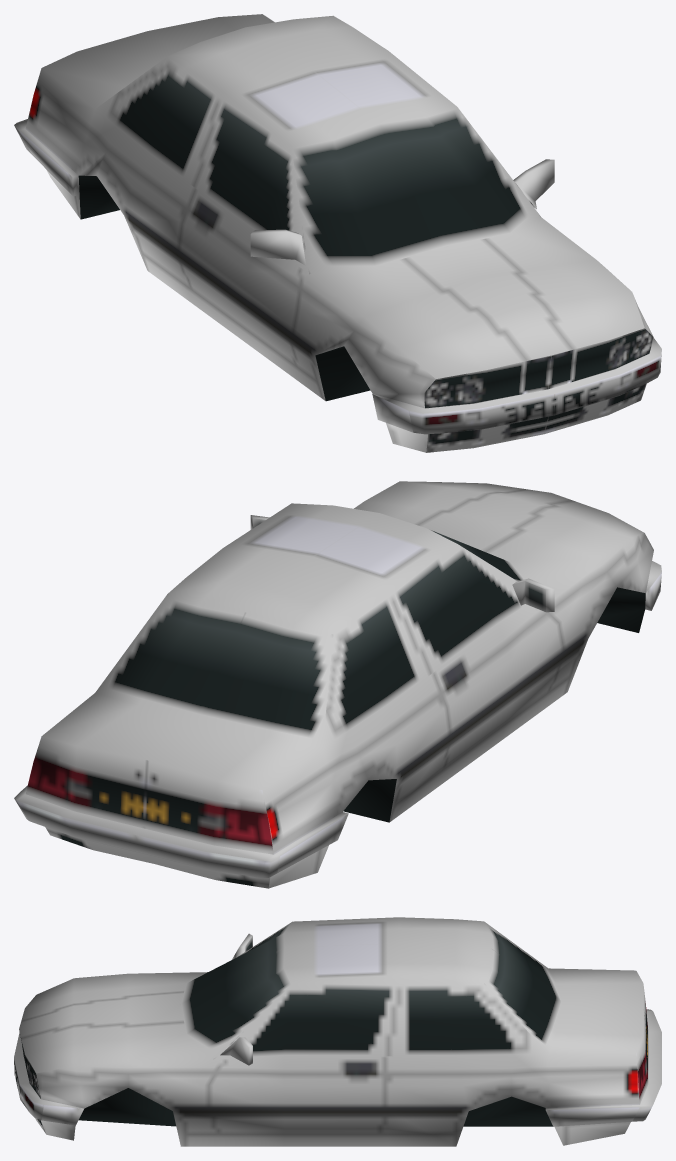
Rendered from bmw_e30.obj.
3 renders of one model, top to bottom at view 1: azimuth 30°, elevation 25°; view 2: azimuth 150°, elevation 25°; view 3: azimuth 270°, elevation 25°, orthographic. The views are drawn at different scales.
Parts seen in each view (by area): view 1: bmw_e30; view 2: bmw_e30; view 3: bmw_e30.
Part boxes in pixels (<box>): bmw_e30: <box>14,14,661,452</box>; bmw_e30: <box>14,481,661,888</box>; bmw_e30: <box>14,917,661,1146</box>.
Size of the model in its own units: 1.81 by 1.16 by 4.33.
1 material, 1 textured.
